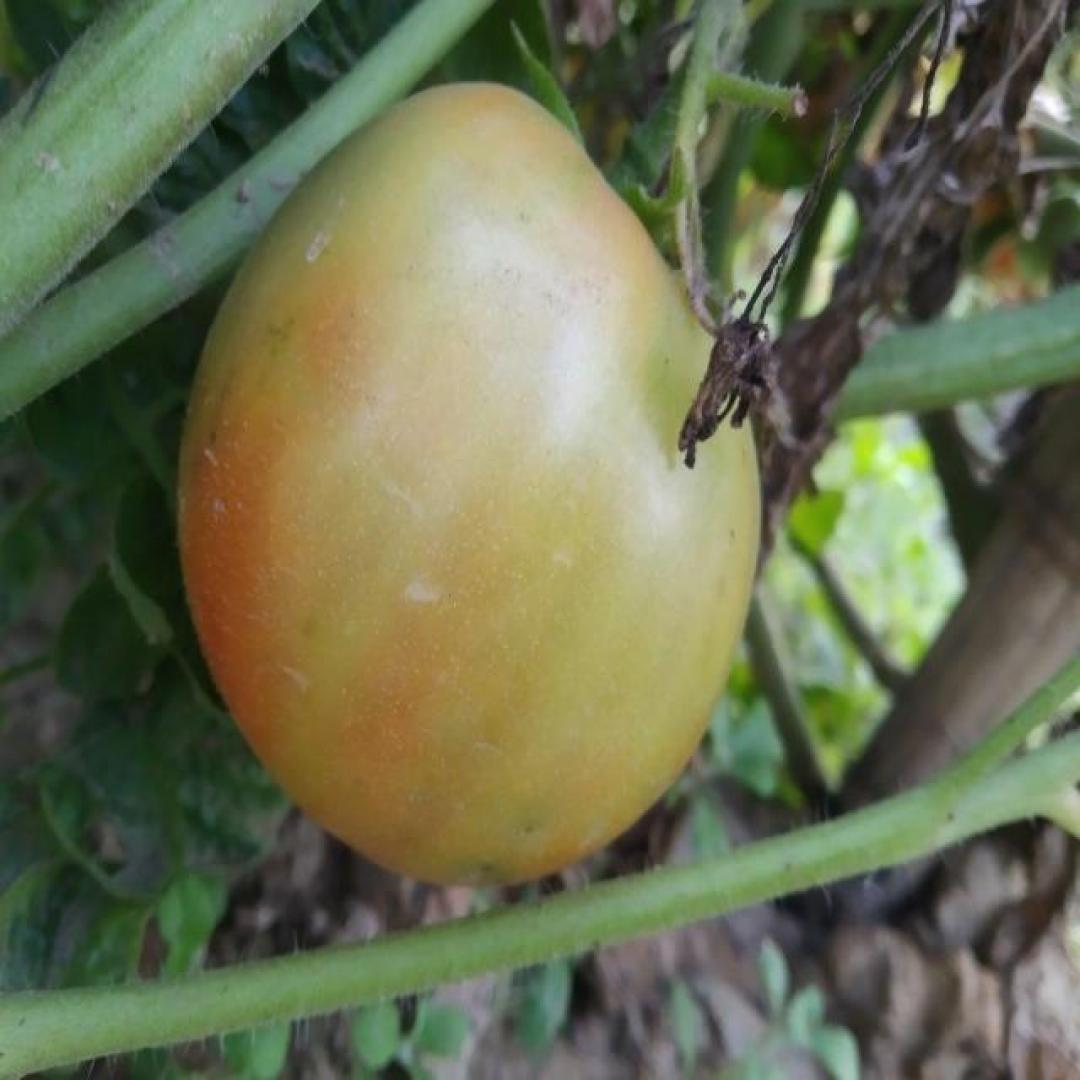setengah_matang: (172, 76, 763, 889)
